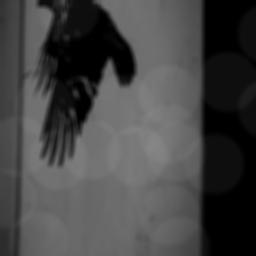Crow: (22, 0, 136, 166)
